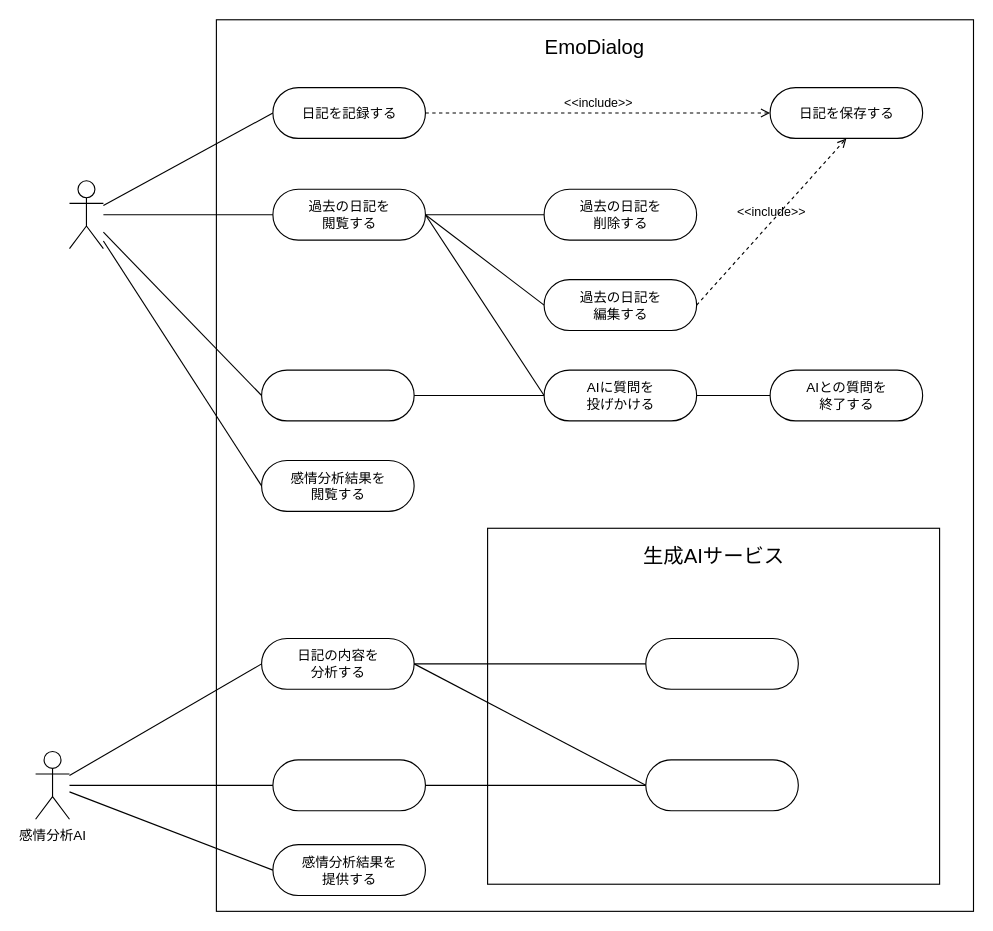
Image size: 993x931. Some labels were removed from this diagram. Each missing label, with the centre of its shape:
AIとの会話を 開始する: point 337,395
ユーザー: point 85,214
ユーザーとの 会話を行う: point 348,785
感情分析を行う: point 721,663
適切な応答を 生成する: point 721,785
